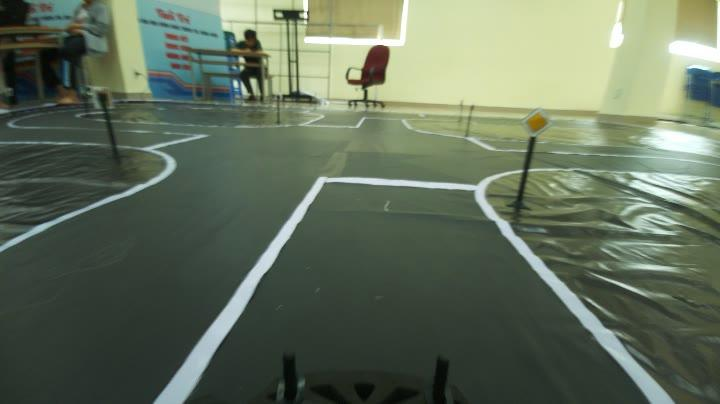priority: (518, 104, 558, 142)
